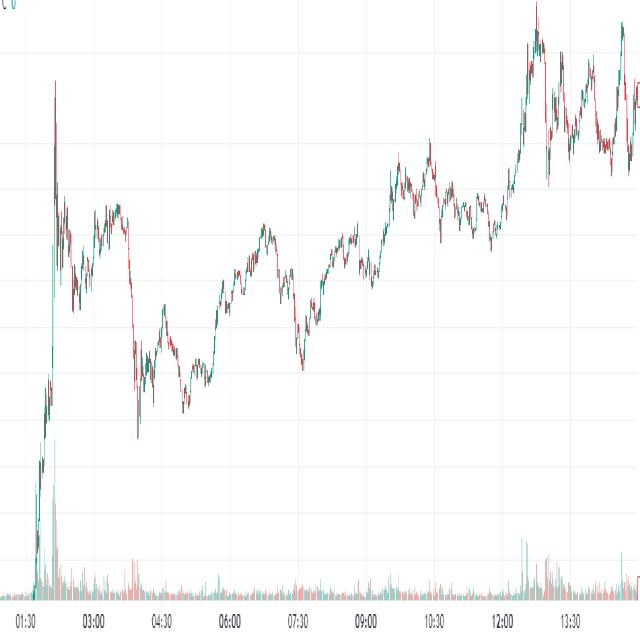Channel-down: (379, 120, 500, 253)
